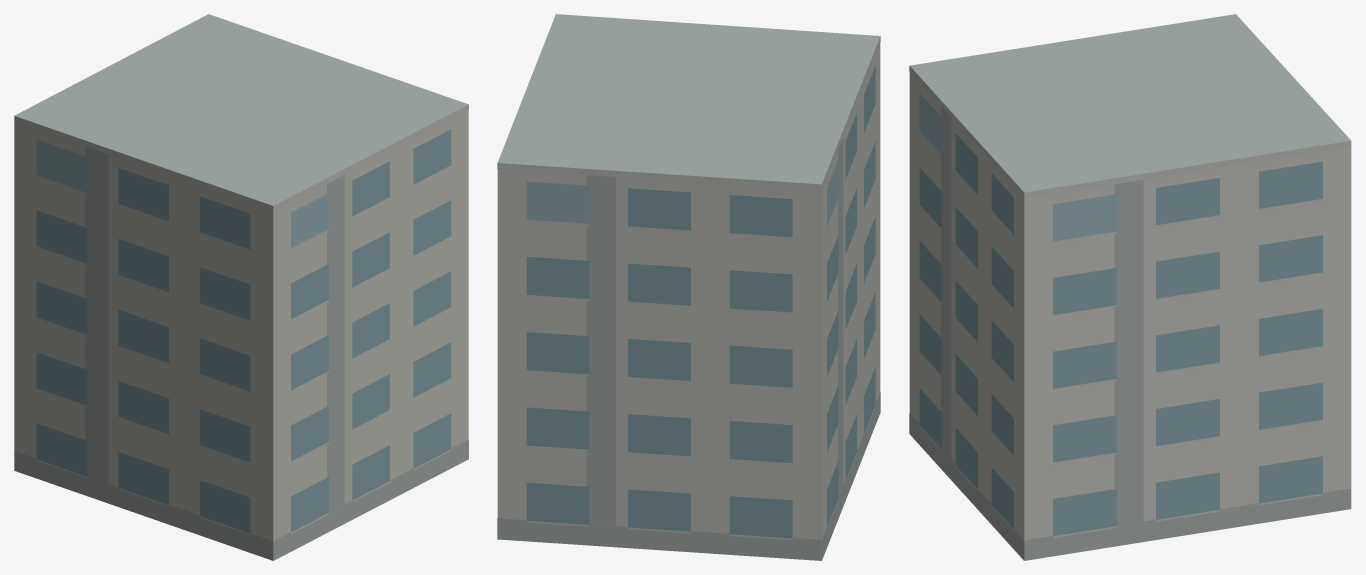
Rendered from survey-upis-32892590.glb.
3 renders of one model, left to right at view 1: azimuth 30°, elevation 25°; view 2: azimuth 150°, elevation 25°; view 3: azimuth 270°, elevation 25°, orthographic. The views are drawn at different scales.
Parts seen in each view (by area): view 1: survey-upis-32892590.tmp; view 2: survey-upis-32892590.tmp; view 3: survey-upis-32892590.tmp.
Part boxes in pixels (x1,y1,x2,y2): survey-upis-32892590.tmp: (14,14,468,560); survey-upis-32892590.tmp: (497,14,880,560); survey-upis-32892590.tmp: (909,14,1351,560).
Bounding box in the file's own units: 15.29 × 14.7 × 15.99.
